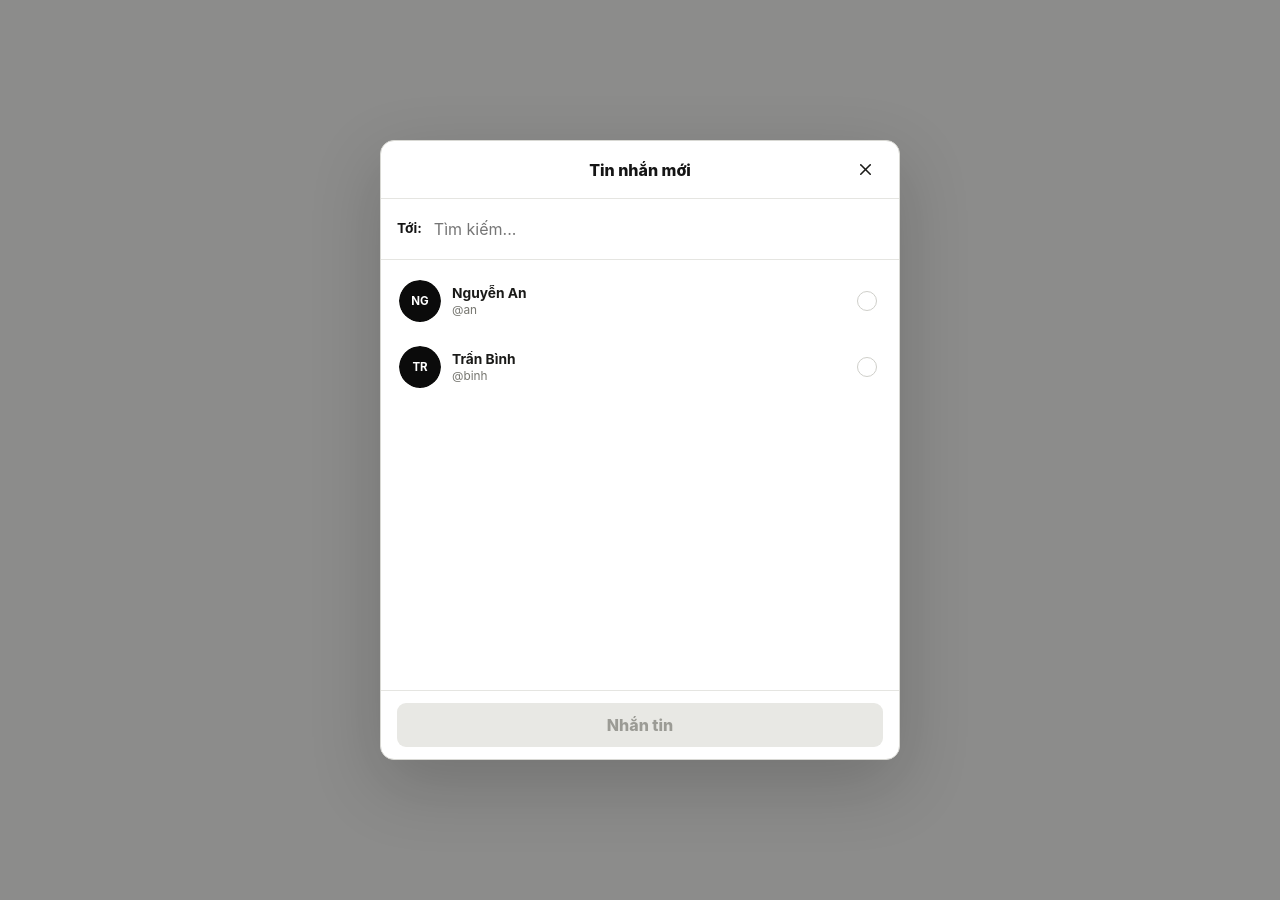
NewConversationDialog › uses the shared two-step group layout and preserves inputs when navigating back
Click the text "Nguyễn An" at (489, 293), box 452,285 -> 527,301
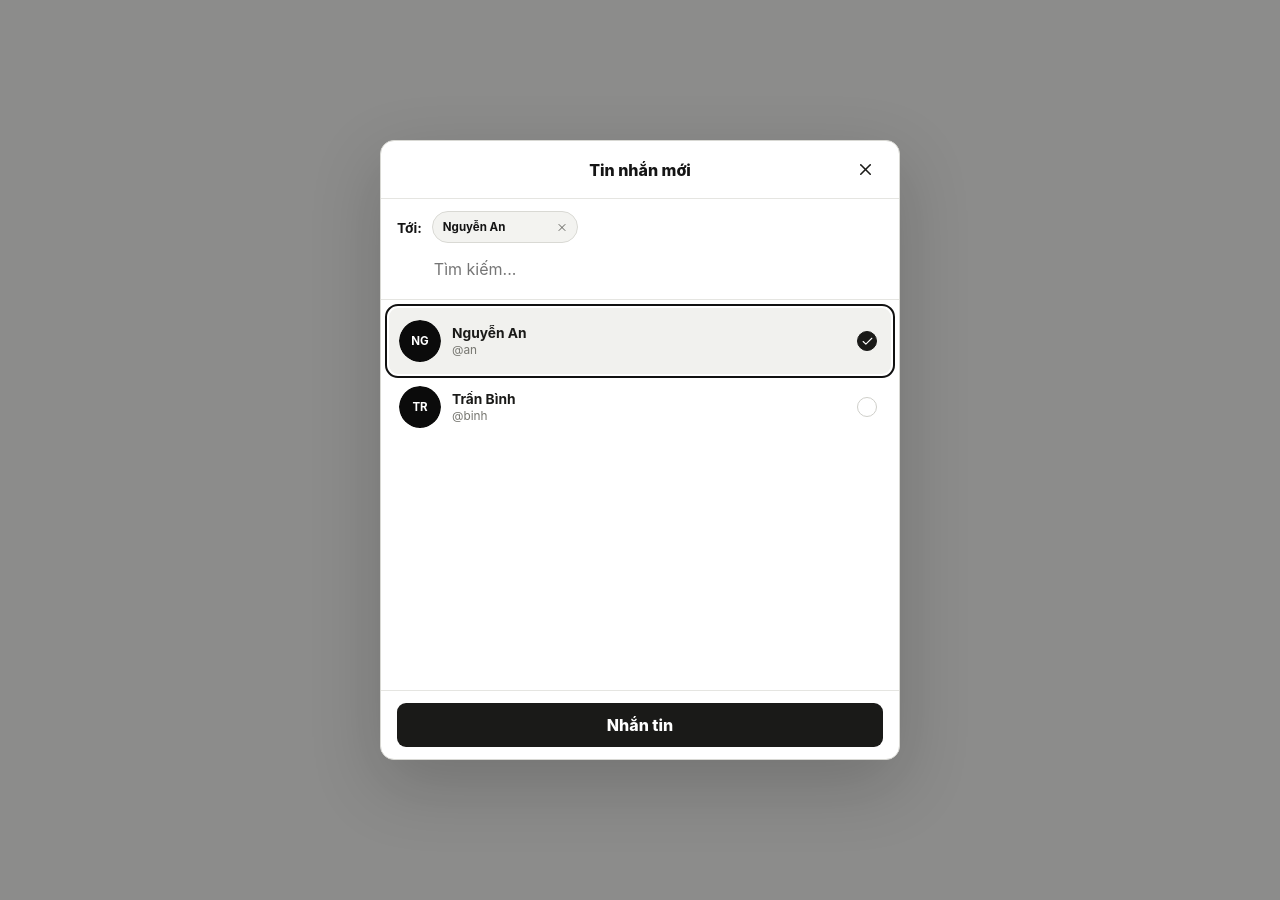
Click the text "Trần Bình" at (484, 399), box 452,391 -> 516,407
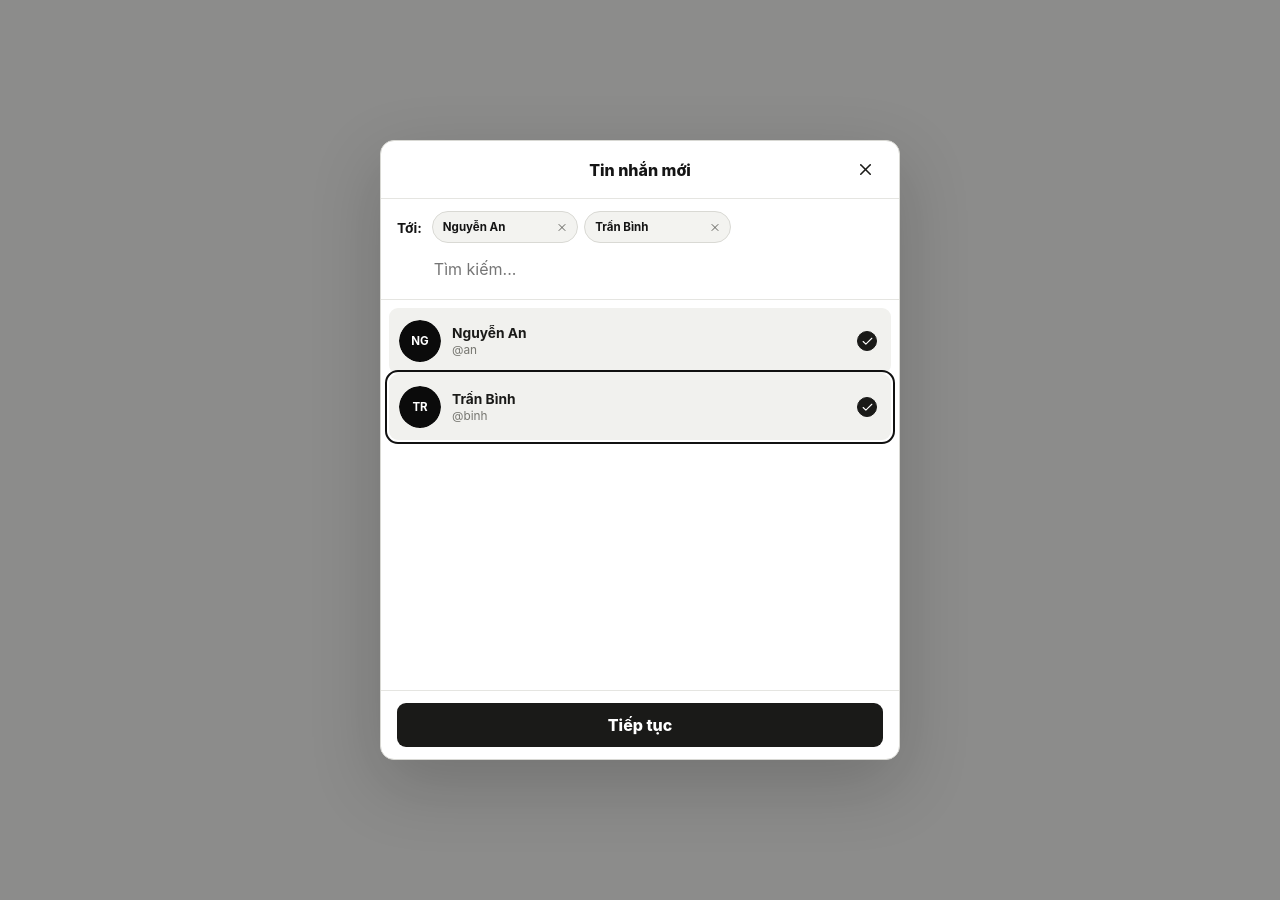
Click the button "Tiếp tục" at (640, 725), box 397,703 -> 883,747
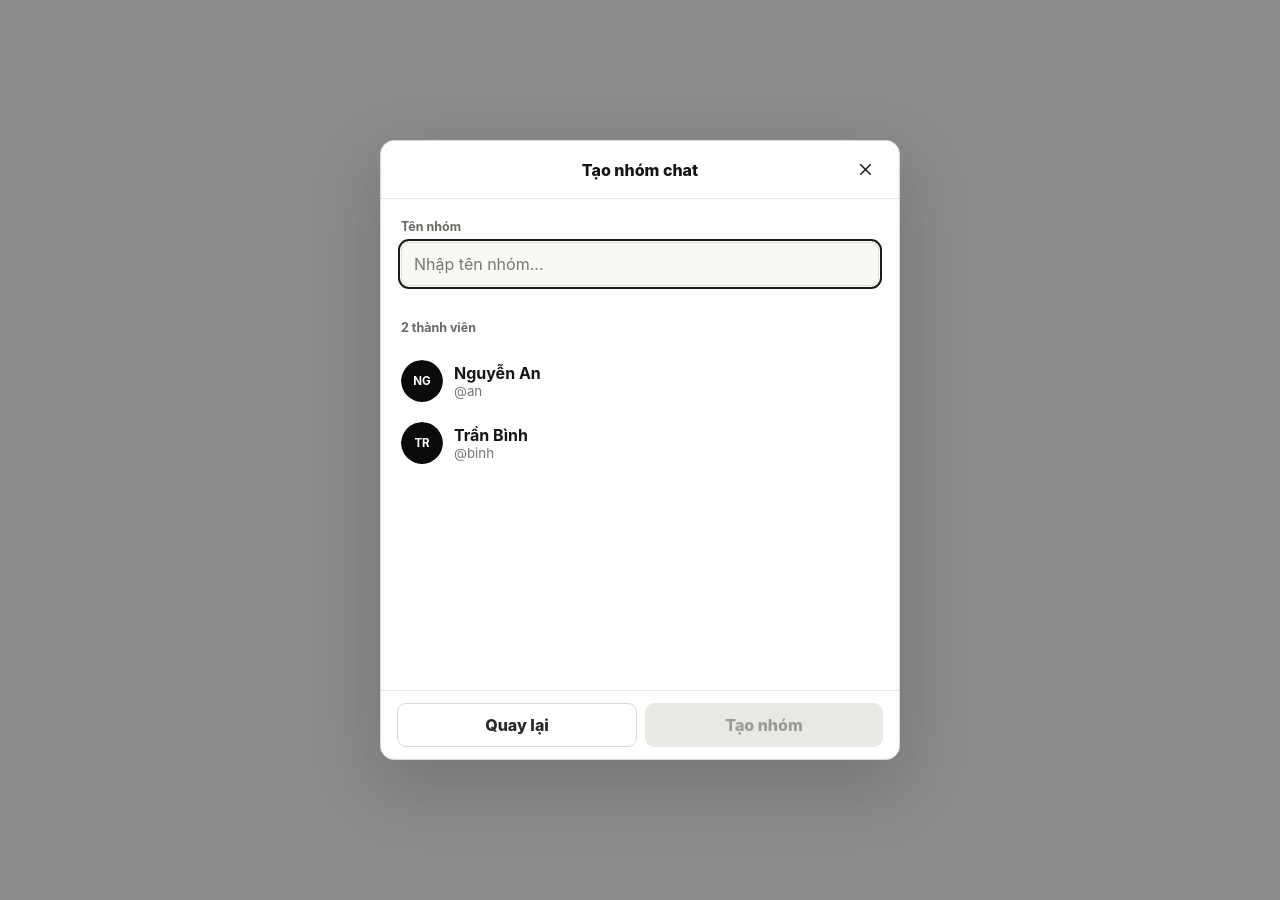
Result: the heading "Tạo nhóm chat" is shown at 582,160 -> 698,180
Result: the element with class "new-group-setup" is shown at 401,219 -> 879,464
Result: the element with class "new-group-members" is shown at 401,320 -> 541,464
Type "Nhóm học WebFlux" into the field labelled "Tên nhóm" at (640, 264), box 401,242 -> 879,286
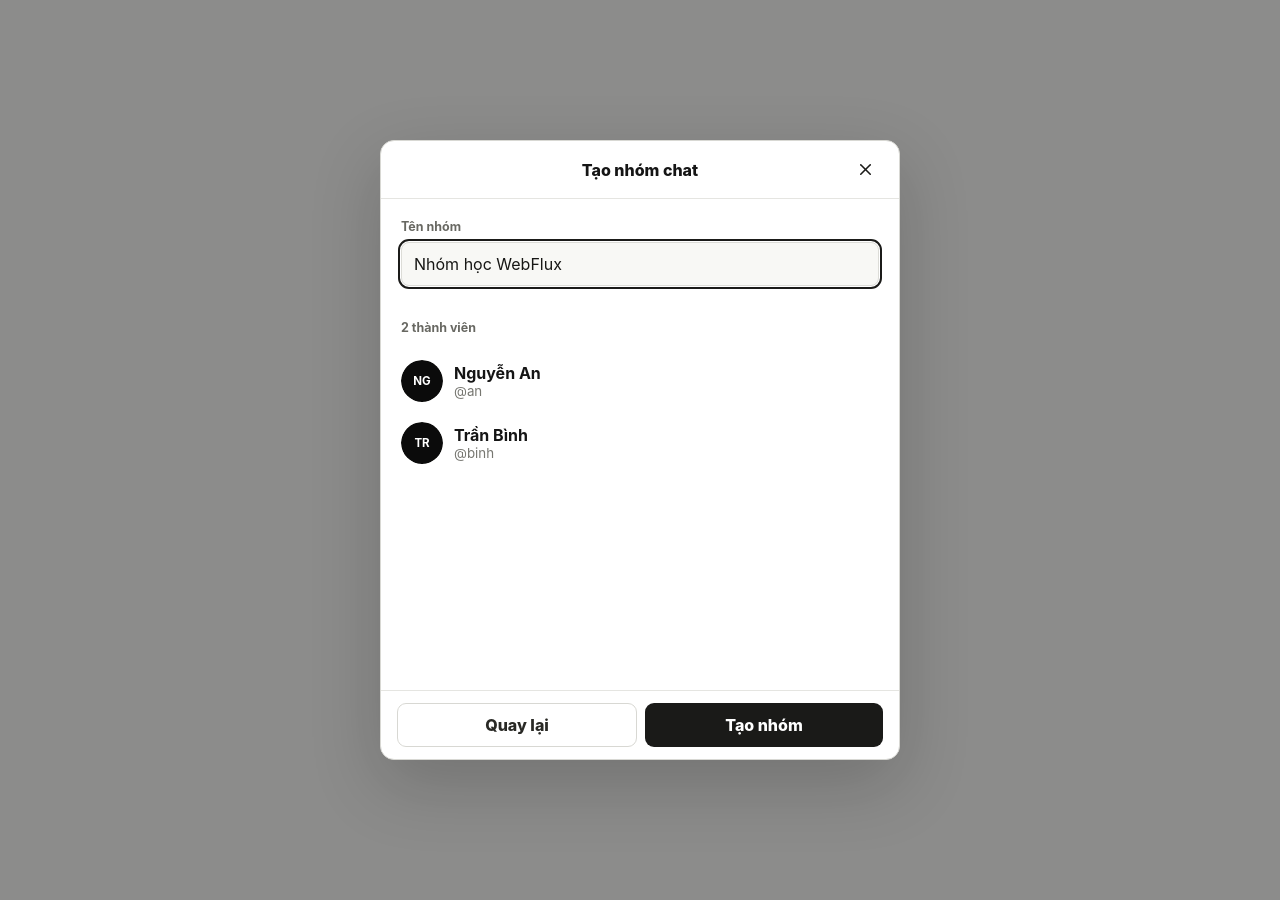
Click the button "Quay lại" at (517, 725), box 397,703 -> 637,747
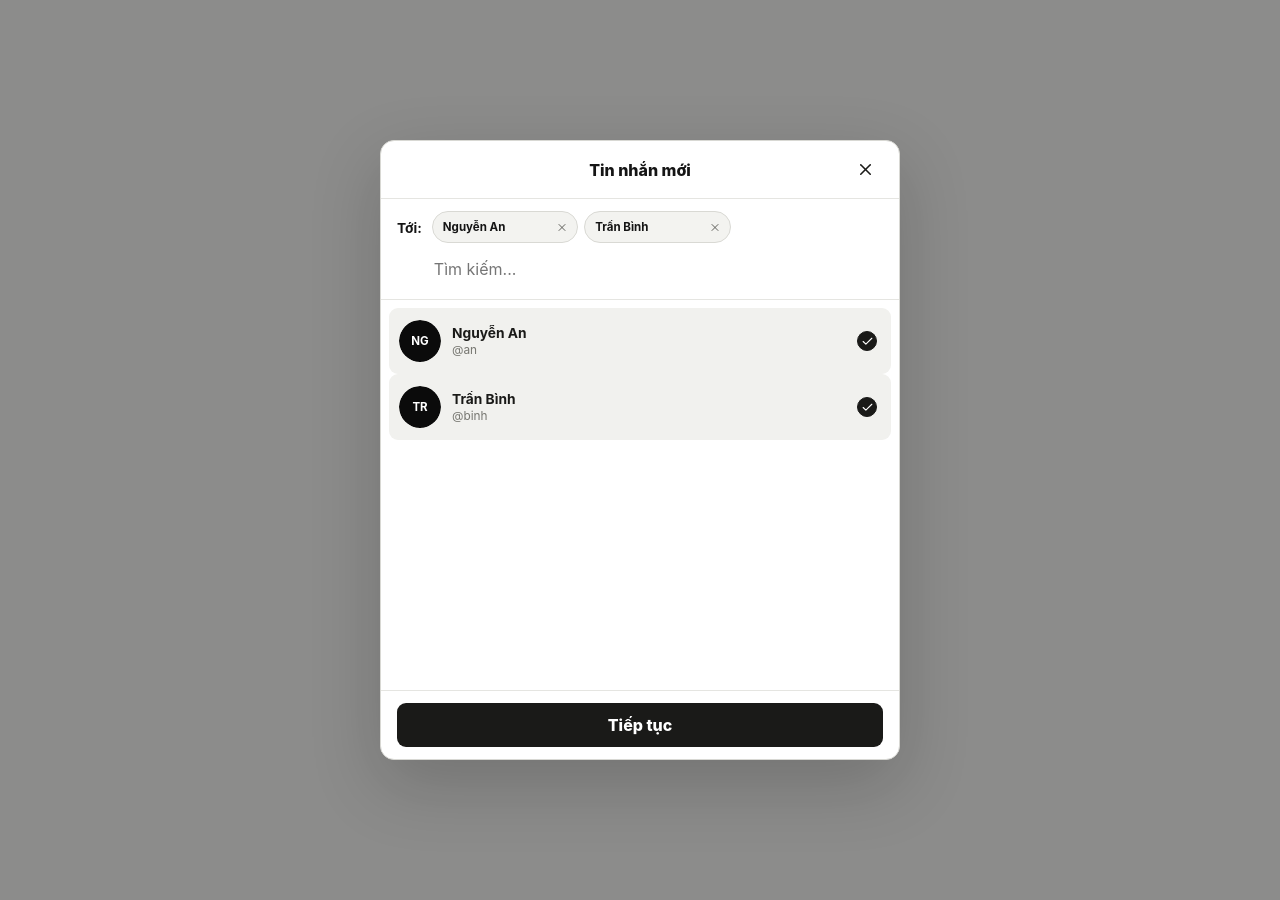
Click the button "Tiếp tục" at (640, 725), box 397,703 -> 883,747
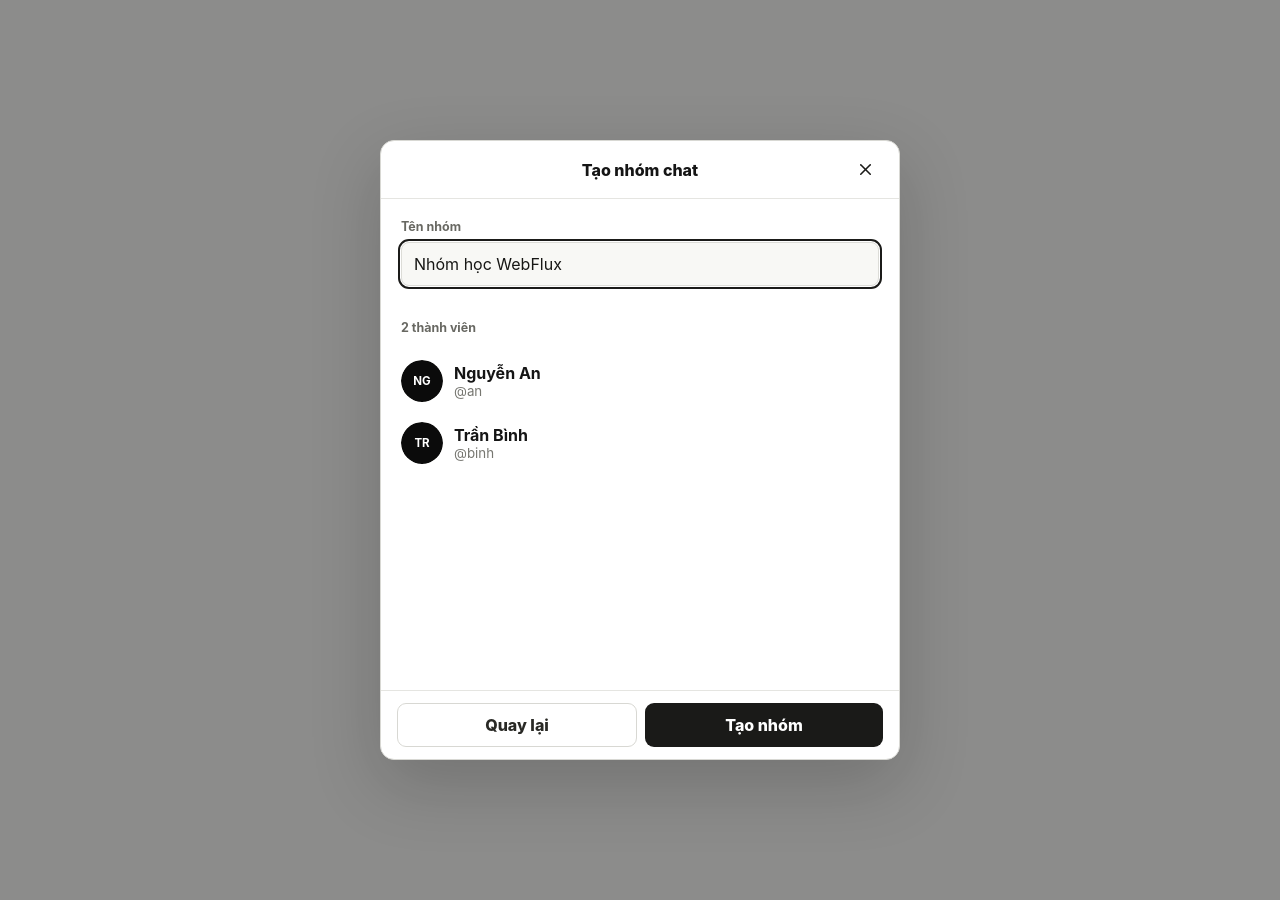
Expected: the text "Nguyễn An" is shown, 454,363 -> 541,383
Result: the field showing "Nhóm học WebFlux" is shown at 401,242 -> 879,286
